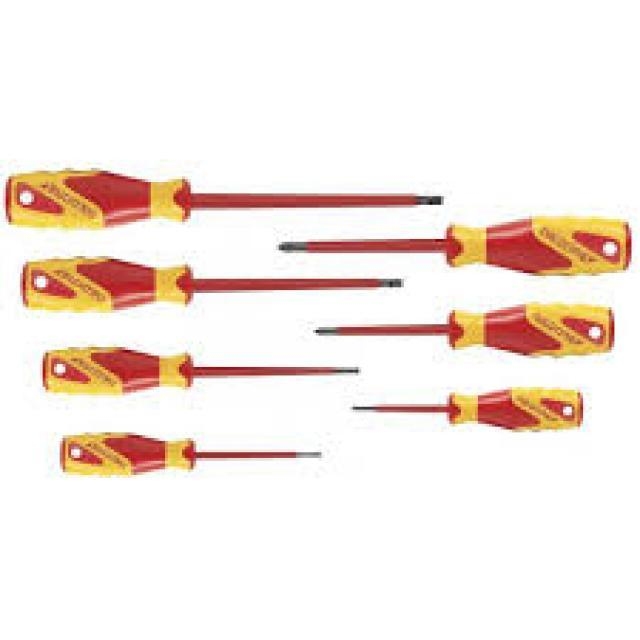screwdriver: (1, 162, 454, 231), (273, 215, 637, 286), (14, 253, 407, 316), (307, 298, 620, 368), (37, 342, 364, 398), (57, 430, 327, 478), (346, 386, 590, 436)
